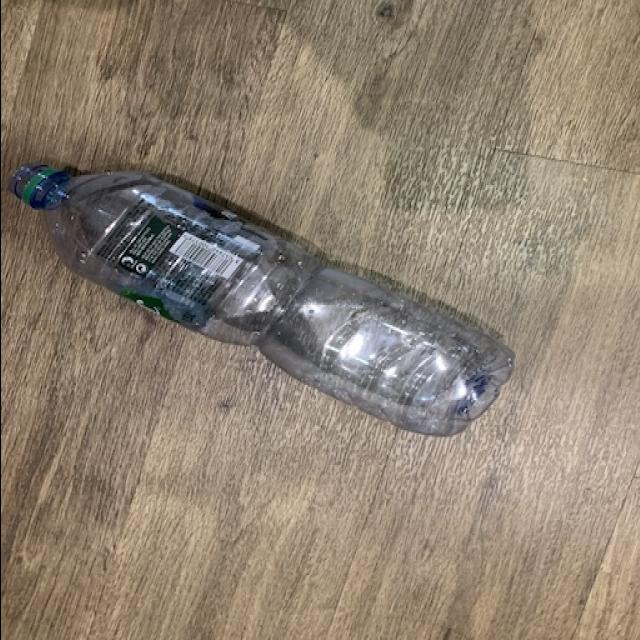PET: (7, 155, 515, 443)
